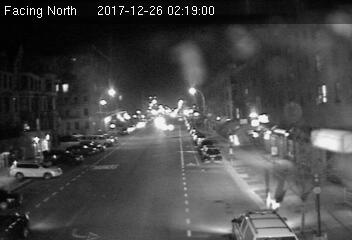car: (201, 145, 222, 163)
truck: (223, 209, 300, 240)
